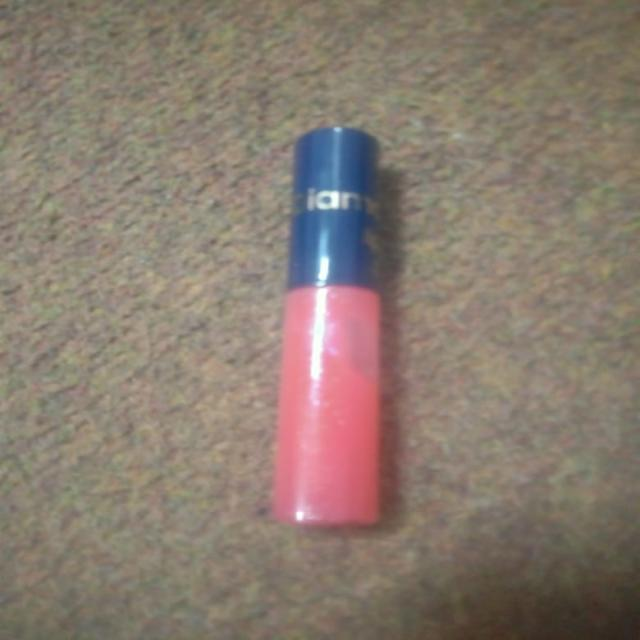lip gloss: (230, 105, 408, 541)
